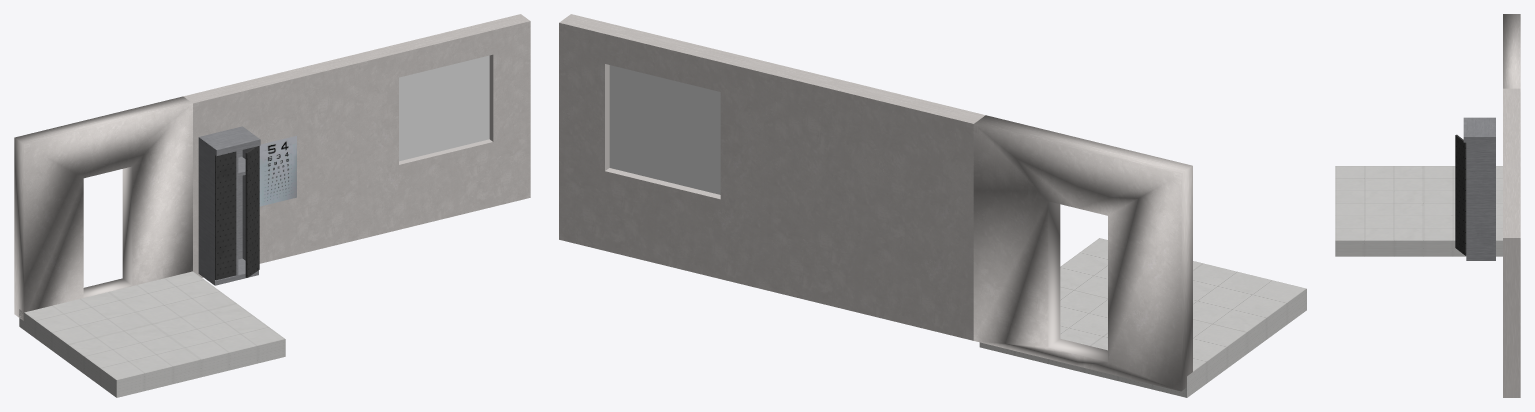
Rendered from medicalOffice.glb.
3 renders of one model, left to right at view 1: azimuth 30°, elevation 25°; view 2: azimuth 150°, elevation 25°; view 3: azimuth 270°, elevation 25°, orthographic. The views are drawn at different scales.
Visible parts, largest first — view 1: medicDoorway, medicWindowHole, medicWall, Cube.006, window, medicCabinet, medicCabinetHinge, Plane, medicCabinetHinge.001; view 2: medicWall, medicDoorway, medicWindowHole, Cube.006, window; view 3: Cube.006, medicCabinet, medicWindowHole, medicCabinetHinge.001, medicWall, medicDoorway.
Part boxes in pixels (x1,y1,x2,y2): medicDoorway: (14, 96, 192, 320); medicWindowHole: (352, 14, 530, 238); medicWall: (183, 55, 361, 277); Cube.006: (19, 271, 285, 397); window: (399, 55, 489, 161); medicCabinet: (198, 126, 260, 285); medicCabinetHinge: (215, 151, 236, 280); Plane: (259, 136, 296, 206); medicCabinetHinge.001: (245, 146, 259, 277); medicWall: (766, 64, 985, 340); medicDoorway: (973, 115, 1192, 391); medicWindowHole: (559, 14, 777, 289); Cube.006: (979, 238, 1306, 397); window: (609, 65, 720, 194); Cube.006: (1335, 166, 1502, 256); medicCabinet: (1463, 117, 1495, 260); medicWindowHole: (1503, 163, 1520, 397); medicCabinetHinge.001: (1455, 134, 1466, 255); medicWall: (1503, 88, 1520, 163); medicDoorway: (1503, 14, 1520, 88).
Bounding box in the file's own units: 6 × 2.1 × 2.1.
4 materials, 4 textured.
